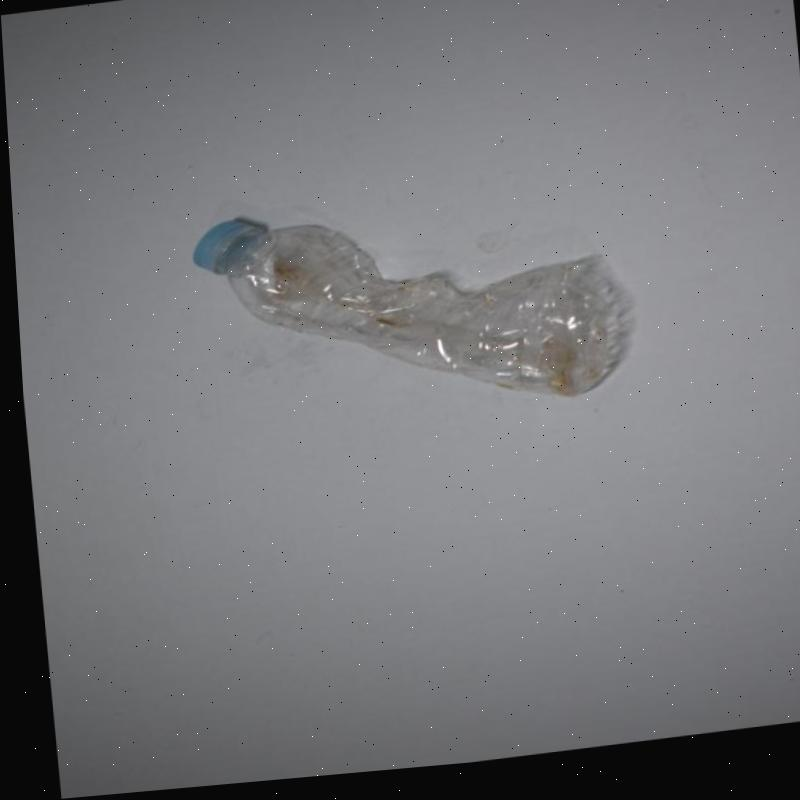botella: (185, 177, 641, 442)
